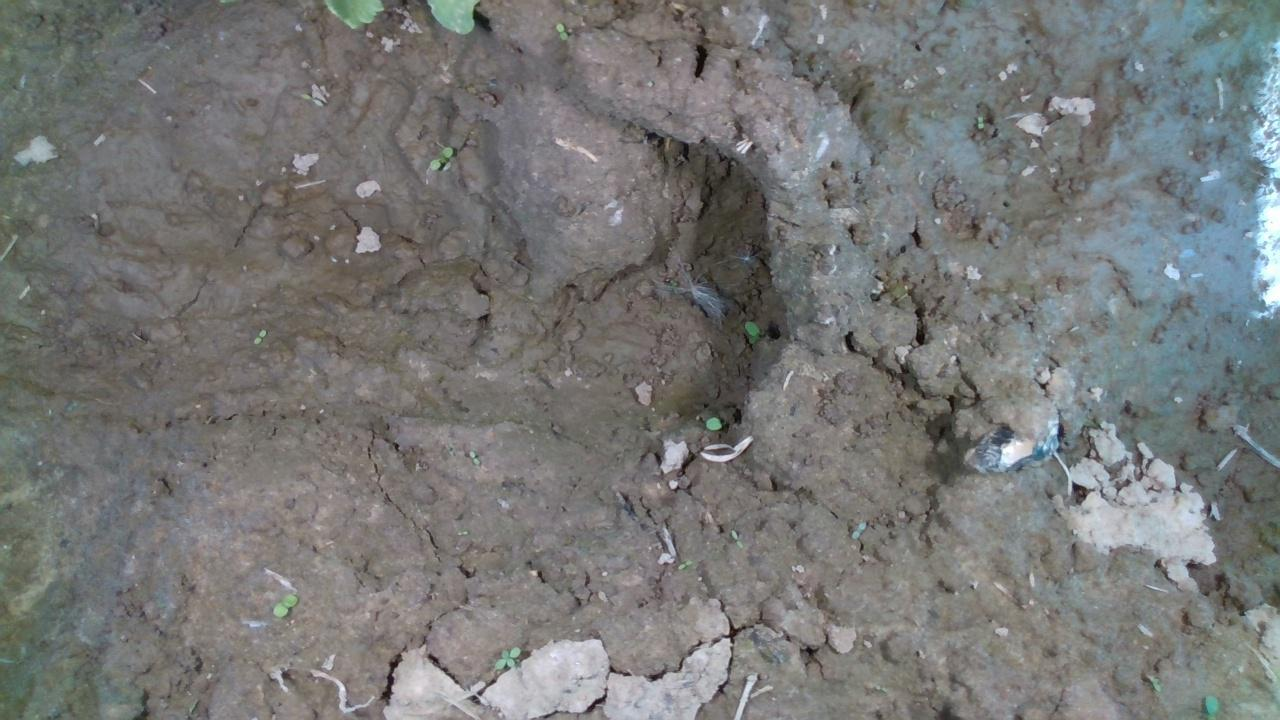weed: (244, 324, 278, 355), (427, 144, 462, 173), (267, 591, 298, 616)
